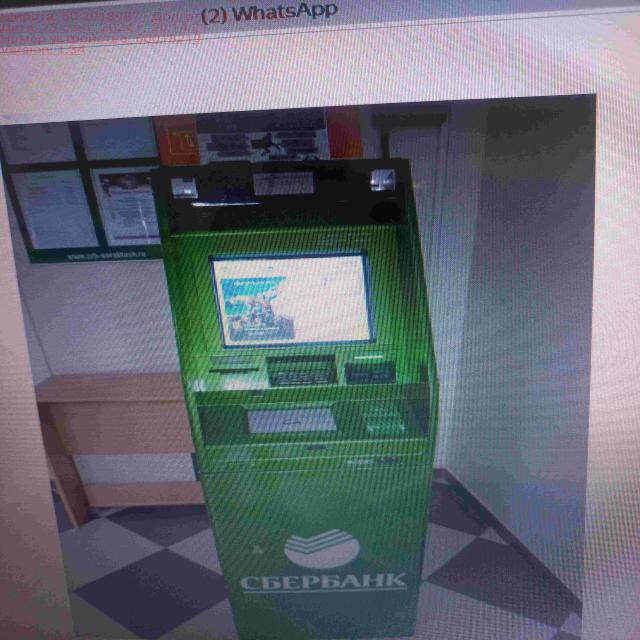bank: (142, 149, 444, 640)
